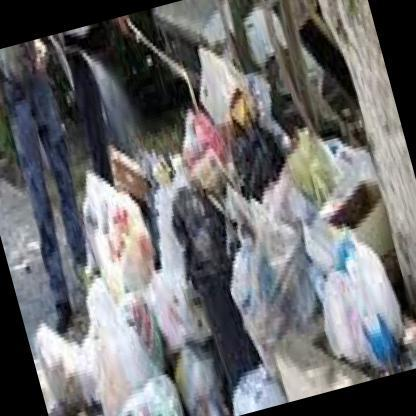Garbage: (66, 173, 409, 415), (65, 186, 179, 352), (279, 121, 338, 218), (224, 121, 288, 208)
